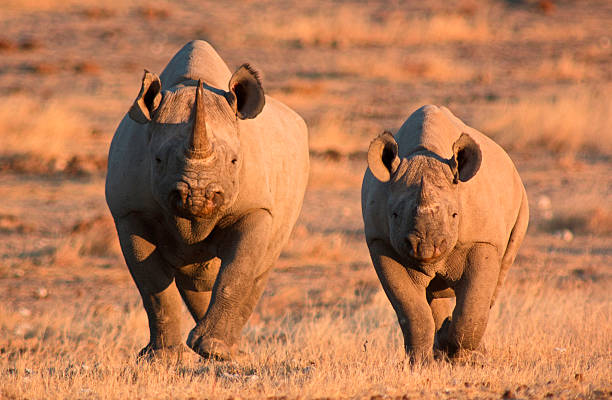rhino: (110, 51, 276, 264)
